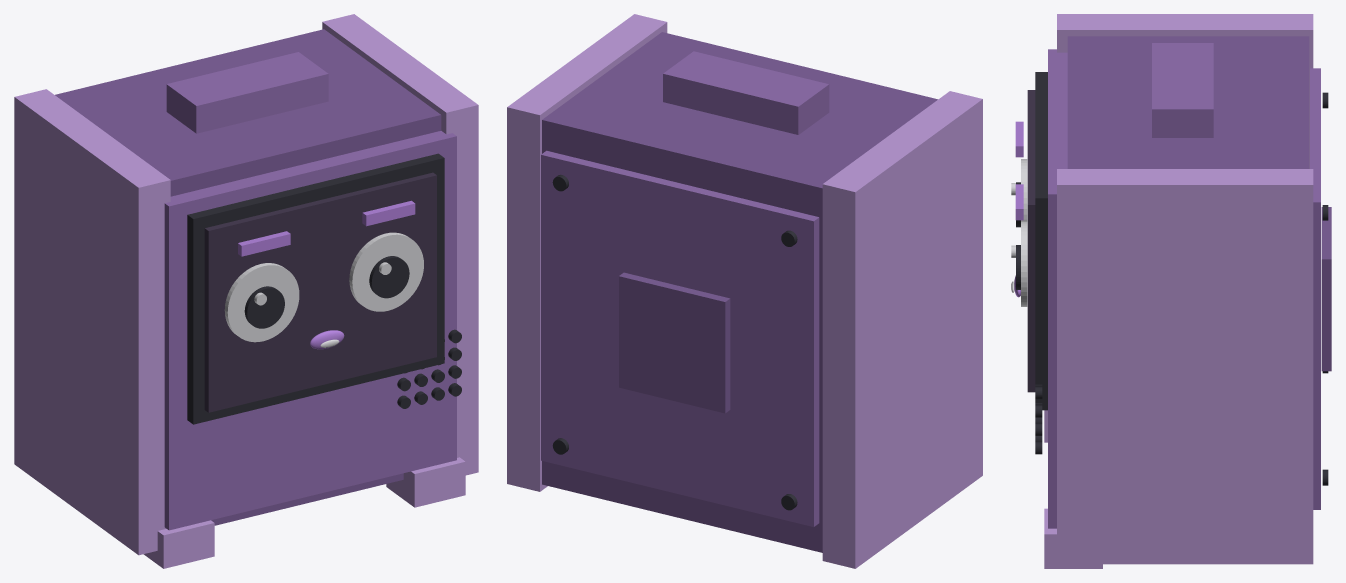
Rendered from zuz_mascote_3d.glb.
The picture shows the model from 3 angles, left to right: view 1: azimuth 30°, elevation 25°; view 2: azimuth 150°, elevation 25°; view 3: azimuth 270°, elevation 25°; orthographic projection. The views are drawn at different scales.
Parts seen in each view (by area): view 1: left_rail, front_panel, screen, body, right_rail, screen_bezel, top_button, eye_white_0.66, eye_white_-0.66, foot_right, foot_left, pupil_0.66 (+3 smaller); view 2: back_panel, left_rail, body, right_rail, rear_hatch, top_button; view 3: right_rail, body, left_rail, top_button, front_panel, screen_bezel, back_panel, screen, rear_hatch, foot_right, eye_white_0.66.
Boxes of the visible parts, box(x1,y1,x2,y2) form: left_rail: box(14, 89, 170, 555); front_panel: box(164, 131, 456, 530); screen: box(204, 172, 436, 412); body: box(55, 29, 441, 525); right_rail: box(322, 14, 478, 475); screen_bezel: box(187, 153, 444, 424); top_button: box(166, 52, 328, 133); eye_white_0.66: box(349, 232, 423, 311); eye_white_-0.66: box(224, 263, 299, 342); foot_right: box(386, 457, 465, 507); foot_left: box(143, 520, 214, 568); pupil_0.66: box(369, 256, 409, 298); back_panel: box(541, 150, 819, 526); left_rail: box(822, 91, 982, 568); body: box(542, 32, 937, 552); right_rail: box(507, 14, 667, 491); rear_hatch: box(619, 272, 730, 413); top_button: box(663, 51, 829, 134); right_rail: box(1057, 169, 1313, 564); body: box(1067, 36, 1309, 168); left_rail: box(1057, 14, 1313, 168); top_button: box(1152, 43, 1213, 137); front_panel: box(1048, 49, 1067, 528); screen_bezel: box(1035, 72, 1047, 410); back_panel: box(1310, 68, 1320, 509); screen: box(1027, 90, 1035, 392); rear_hatch: box(1321, 207, 1331, 371); foot_right: box(1044, 508, 1102, 568); eye_white_0.66: box(1021, 221, 1027, 306).
Bounding box in the file's own units: 3.6 × 4.09 × 2.85.
